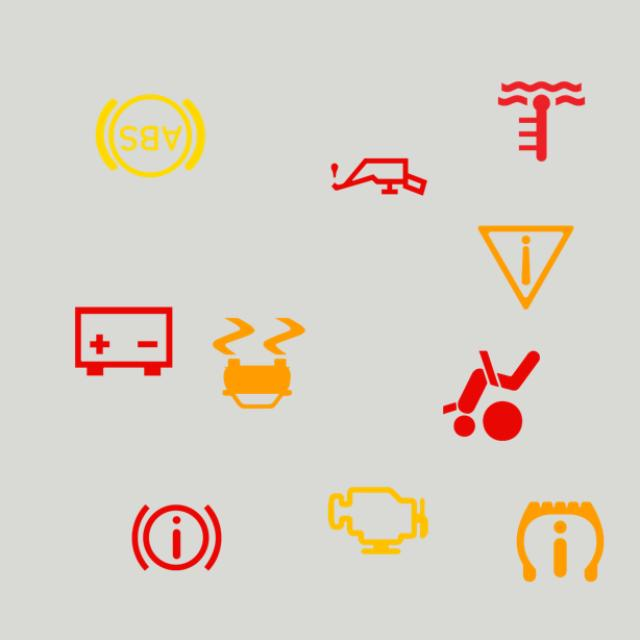Anti Lock Braking System: (90, 76, 210, 196)
Braking System Issue: (116, 478, 236, 598)
Charging System Issue: (64, 282, 184, 402)
Check Engine: (318, 460, 438, 580)
Electronic Stability Problem -ESP-: (199, 304, 319, 424)
Engine Overheating Warning Light: (482, 62, 602, 182)
Low Engine Oil Warning Light: (319, 116, 439, 236)
Low Tire Pressure Warning Light: (500, 482, 620, 602)
Master warning light: (466, 208, 586, 328)
SRS-Airbag: (432, 336, 552, 456)
